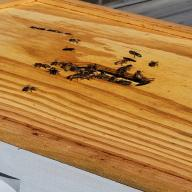Bee: (31, 60, 62, 80), (121, 46, 153, 57), (19, 84, 42, 97), (58, 61, 79, 74), (62, 36, 84, 46)
